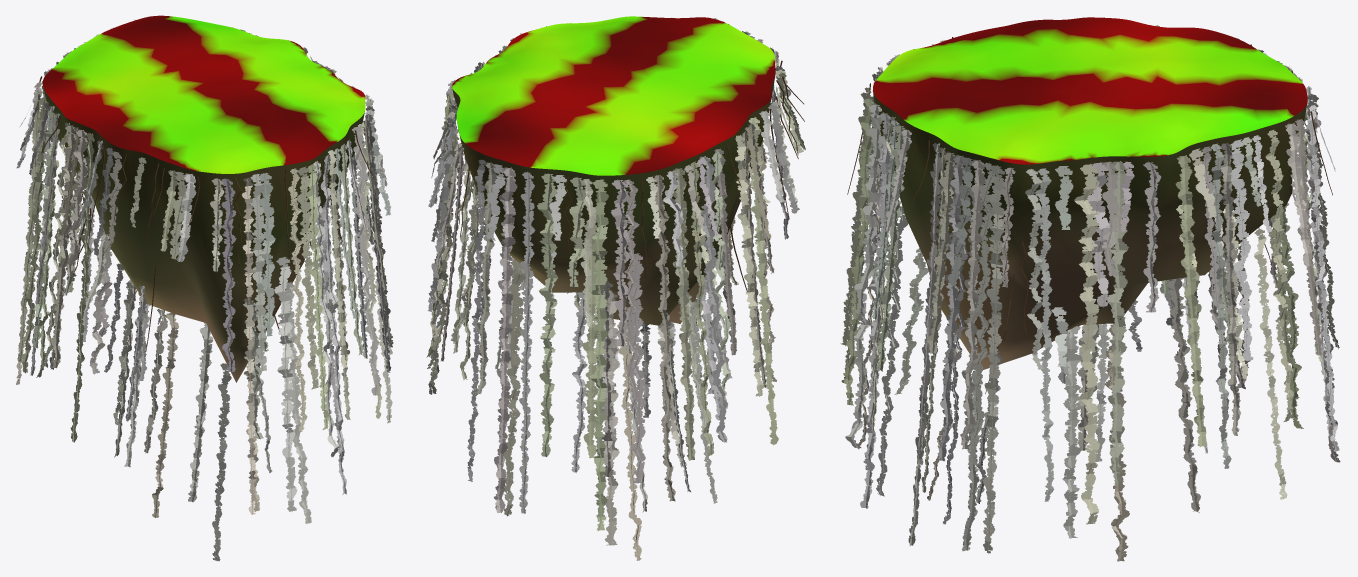
File: SM_H01_Floater03.fbx
3 renders of one model, left to right at view 1: azimuth 30°, elevation 25°; view 2: azimuth 150°, elevation 25°; view 3: azimuth 270°, elevation 25°, orthographic. The views are drawn at different scales.
Parts seen in each view (by area): view 1: SM_H01_Floater03_Ivy, SM_H01_Floater03; view 2: SM_H01_Floater03_Ivy, SM_H01_Floater03; view 3: SM_H01_Floater03_Ivy, SM_H01_Floater03.
Boxes of the visible parts, x1=… form: SM_H01_Floater03_Ivy: x1=16, y1=19, x2=393, y2=561; SM_H01_Floater03: x1=42, y1=15, x2=365, y2=382; SM_H01_Floater03_Ivy: x1=426, y1=17, x2=805, y2=560; SM_H01_Floater03: x1=452, y1=16, x2=775, y2=325; SM_H01_Floater03_Ivy: x1=840, y1=17, x2=1340, y2=561; SM_H01_Floater03: x1=873, y1=17, x2=1307, y2=369.
Size of the model in its own units: 27.65 by 37.67 by 34.26.
